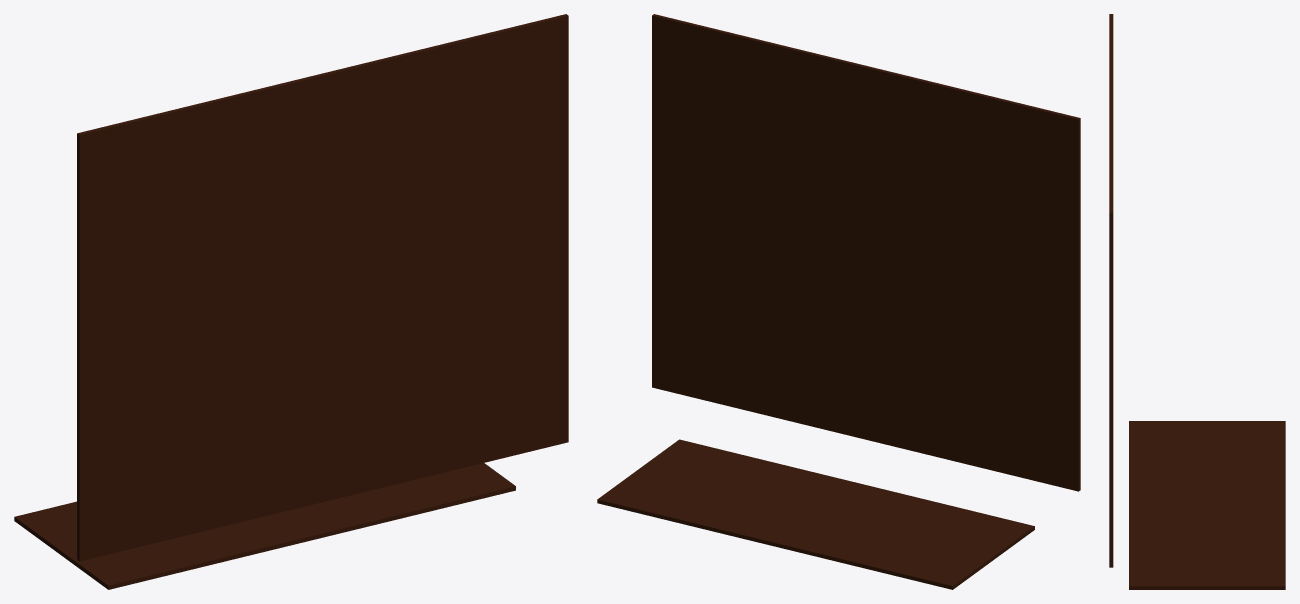
File: fault_terminal_heat.obj
The picture shows the model from 3 angles, left to right: view 1: azimuth 30°, elevation 25°; view 2: azimuth 150°, elevation 25°; view 3: azimuth 270°, elevation 25°; orthographic projection. The views are drawn at different scales.
Visible parts, largest first — view 1: fault_terminal_heat; view 2: fault_terminal_heat; view 3: fault_terminal_heat.
Part boxes in pixels (<box>): fault_terminal_heat: <box>14,14,568,589</box>; fault_terminal_heat: <box>597,14,1080,589</box>; fault_terminal_heat: <box>1109,14,1285,589</box>.
Bounding box in the file's own units: 0.6 × 0.555 × 0.225.
